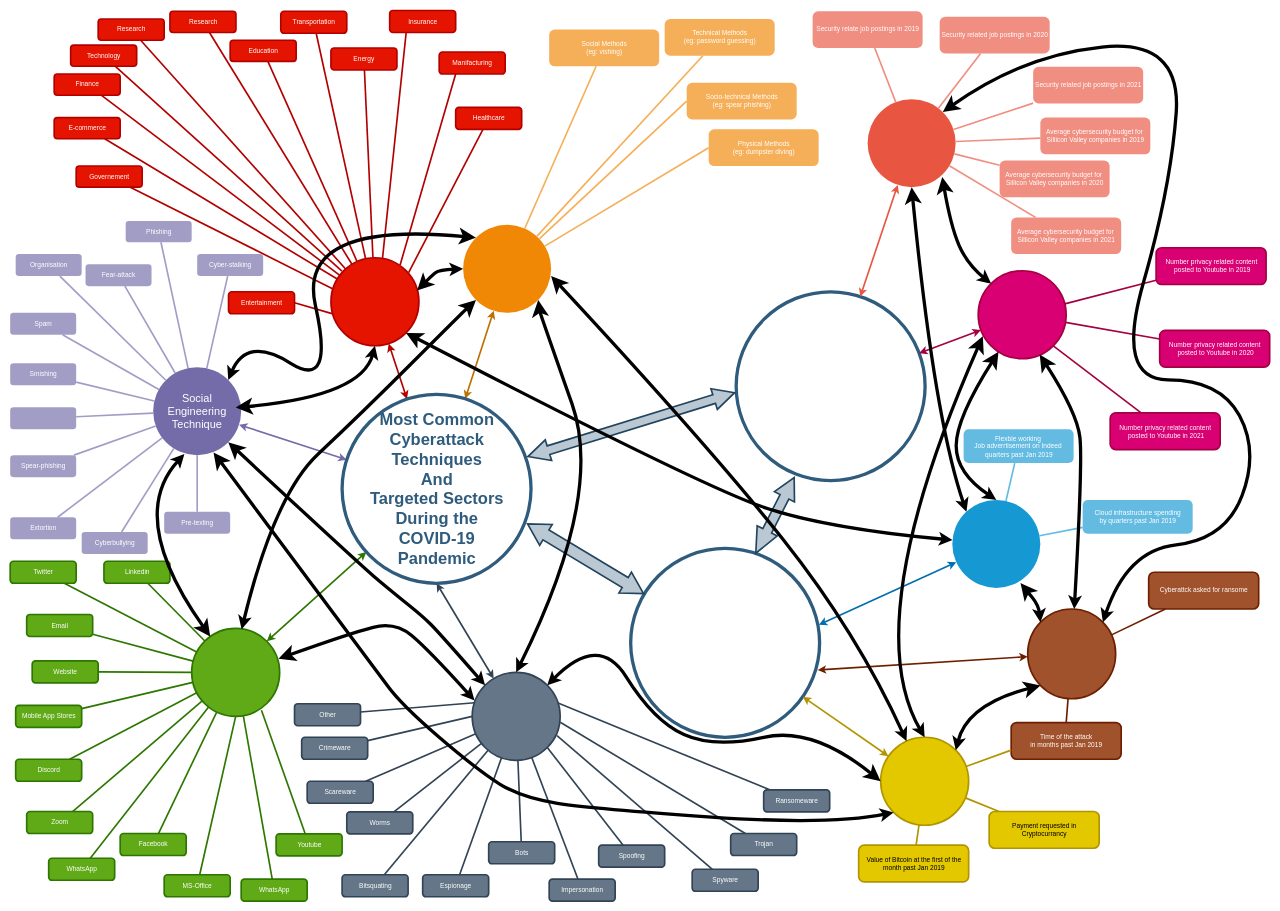
Image size: 1280x911. Some labels were removed from this diagram. Each missing label, with the centre of its shape:
"Corprate Information Security Governance" goes at point (911, 143).
"Growth of Cryptocurrancy Market" goes at point (924, 781).
"Growth of Cyberattacks" goes at point (1071, 653).
"Growth of Cyberattacks During the COVID-19 Pandemic" goes at point (725, 642).
"Growth of Cybersecurity Measures After COVID-19" goes at point (830, 386).
"Increase in Remote Work and Cloud Usage" goes at point (996, 544).
"Platform Used as Weapons for Social Engineerng" goes at point (235, 672).
"Privacy and Security Concern" goes at point (1022, 314).
"Scams" goes at point (43, 418).
"Type of Social Engineering" goes at point (507, 269).
"Types of Malicious Software Used" goes at point (516, 716).
"Types Targeted Organization" goes at point (374, 301).
